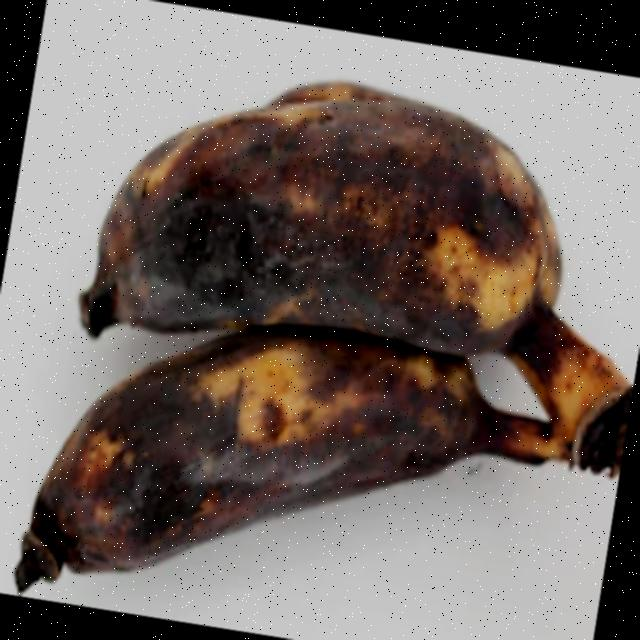Rotten: (29, 23, 640, 422), (0, 265, 579, 640)
